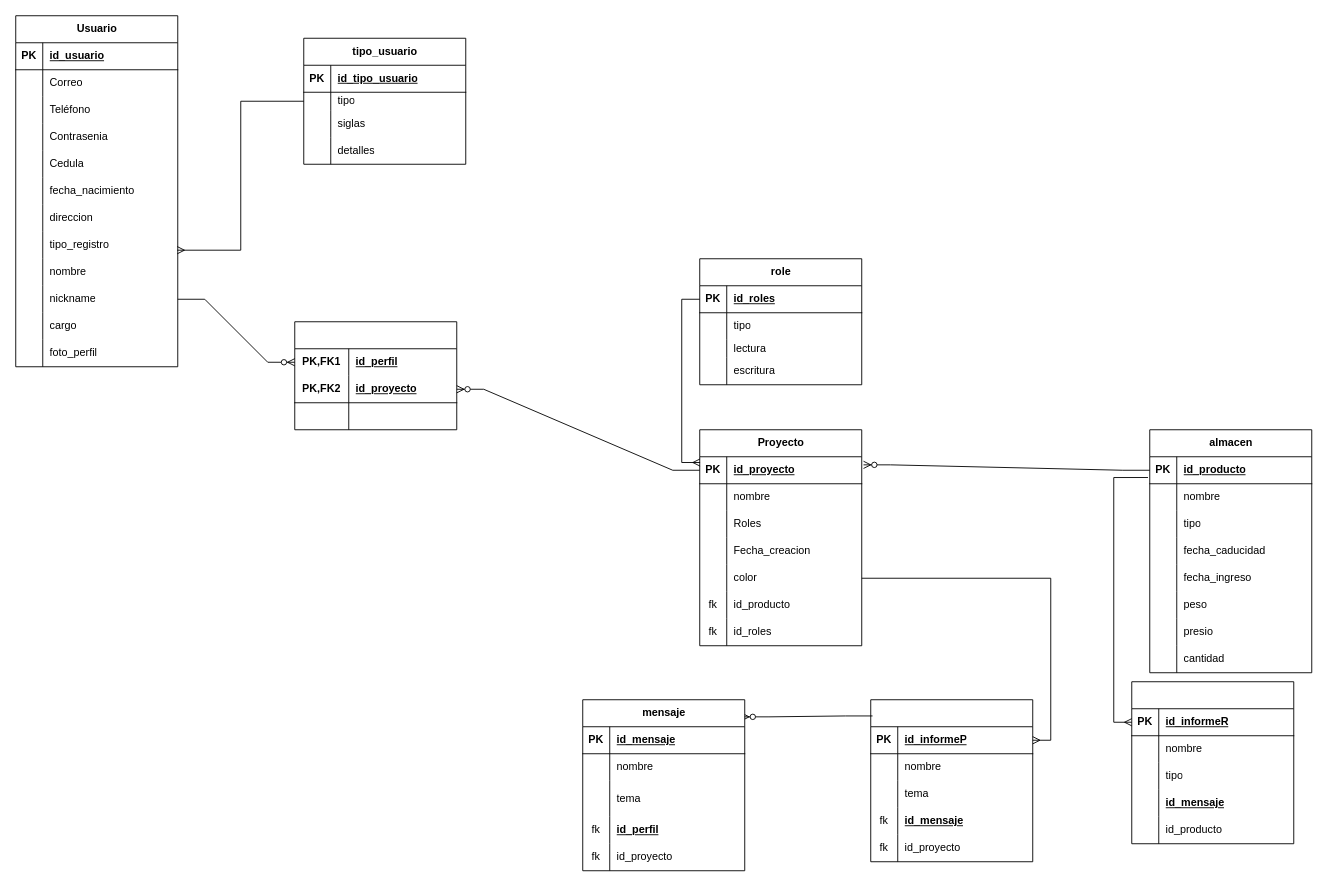
Some shapes in this 1328 by 887 pixel diagram are drawn without their labels. Here are the shapes that lost their labels. From the top down, the box of each, then its label:
(294, 321, 457, 430): usuario_proyecto
(870, 699, 1033, 862): informe_proyecto
(1131, 681, 1294, 844): informe_regulado
